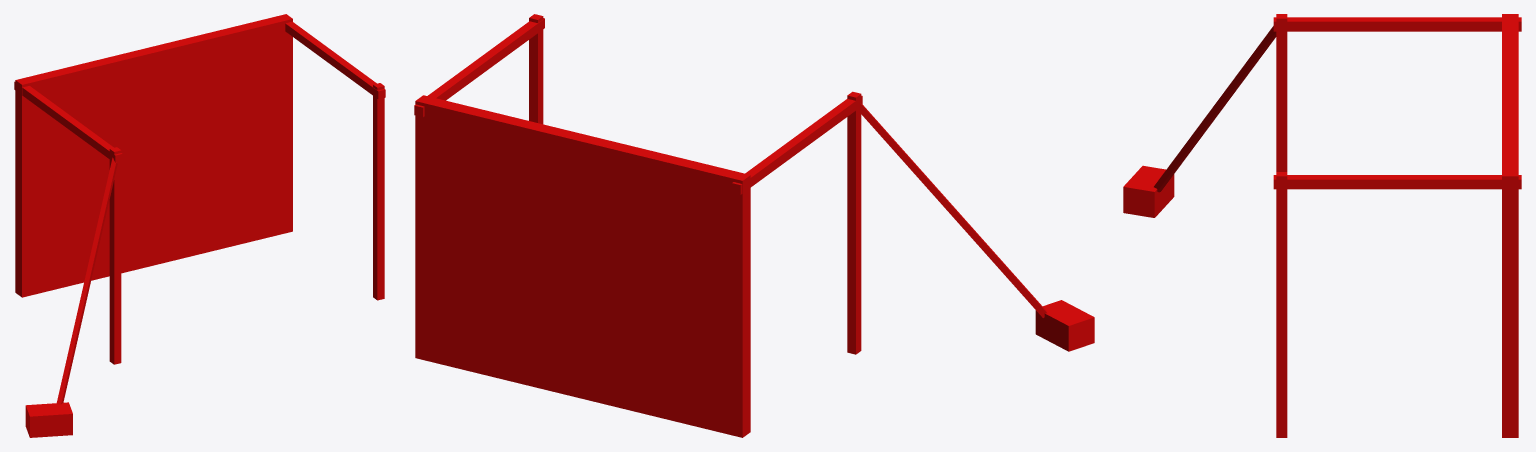
The model's file is SM_Bld_Junk_Shelter_06_Collision.fbx.
The picture shows the model from 3 angles, left to right: view 1: azimuth 30°, elevation 25°; view 2: azimuth 150°, elevation 25°; view 3: azimuth 270°, elevation 25°; orthographic projection. The views are drawn at different scales.
Parts seen in each view (by area): view 1: SM_Bld_Junk_Shelter_06_Collision; view 2: SM_Bld_Junk_Shelter_06_Collision; view 3: SM_Bld_Junk_Shelter_06_Collision.
Part boxes in pixels (left/top/right/bottom): SM_Bld_Junk_Shelter_06_Collision: left=14, top=14, right=385, bottom=437; SM_Bld_Junk_Shelter_06_Collision: left=414, top=14, right=1094, bottom=437; SM_Bld_Junk_Shelter_06_Collision: left=1123, top=14, right=1521, bottom=437.
Bounding box in the file's own units: 486 × 242 × 334.
